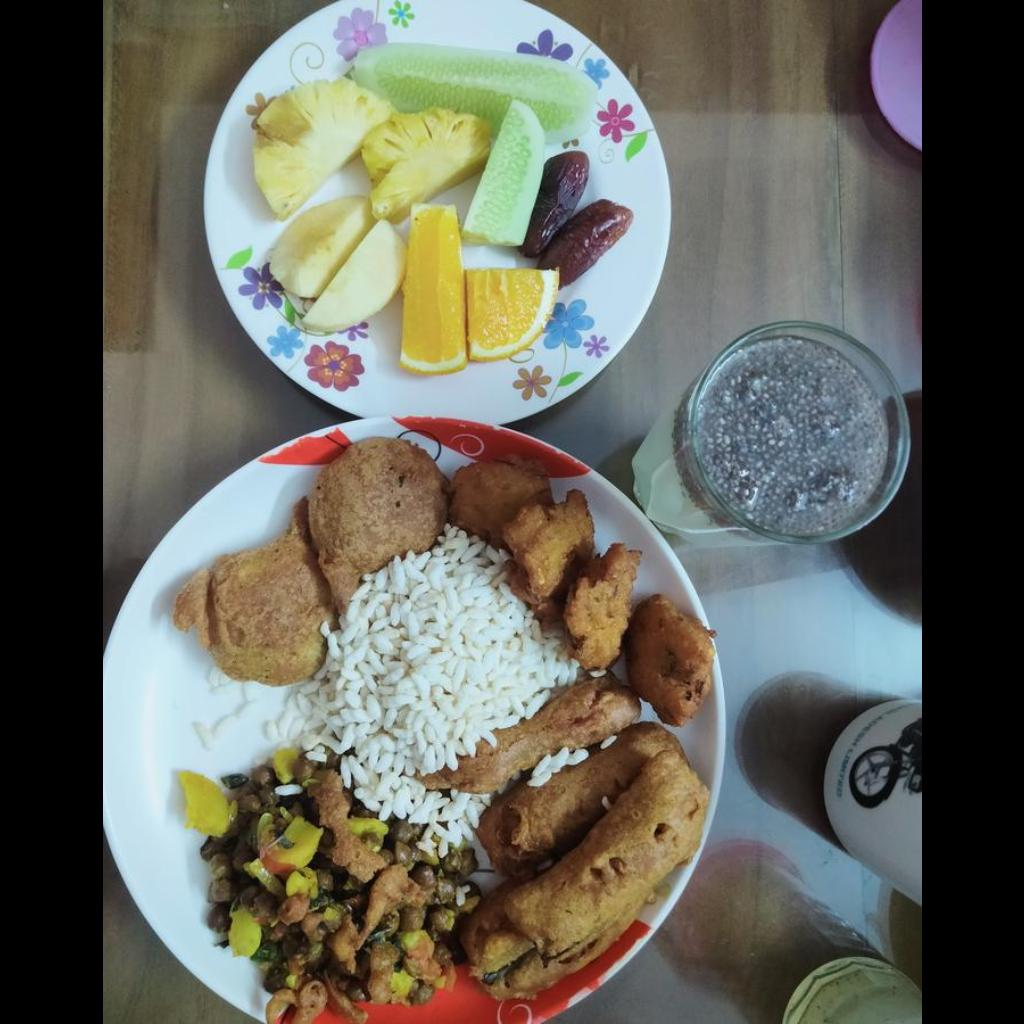apple: (265, 200, 394, 327)
beguni: (464, 696, 713, 1005)
chola: (170, 763, 459, 1012)
chop-alu: (176, 438, 442, 691)
cucumber: (354, 46, 595, 238)
dates: (532, 154, 632, 275)
juice: (695, 337, 887, 535)
orange: (398, 207, 559, 370)
peyaju: (454, 462, 711, 726)
pineapple: (254, 80, 481, 215)
puffed-rice: (305, 543, 562, 798)
